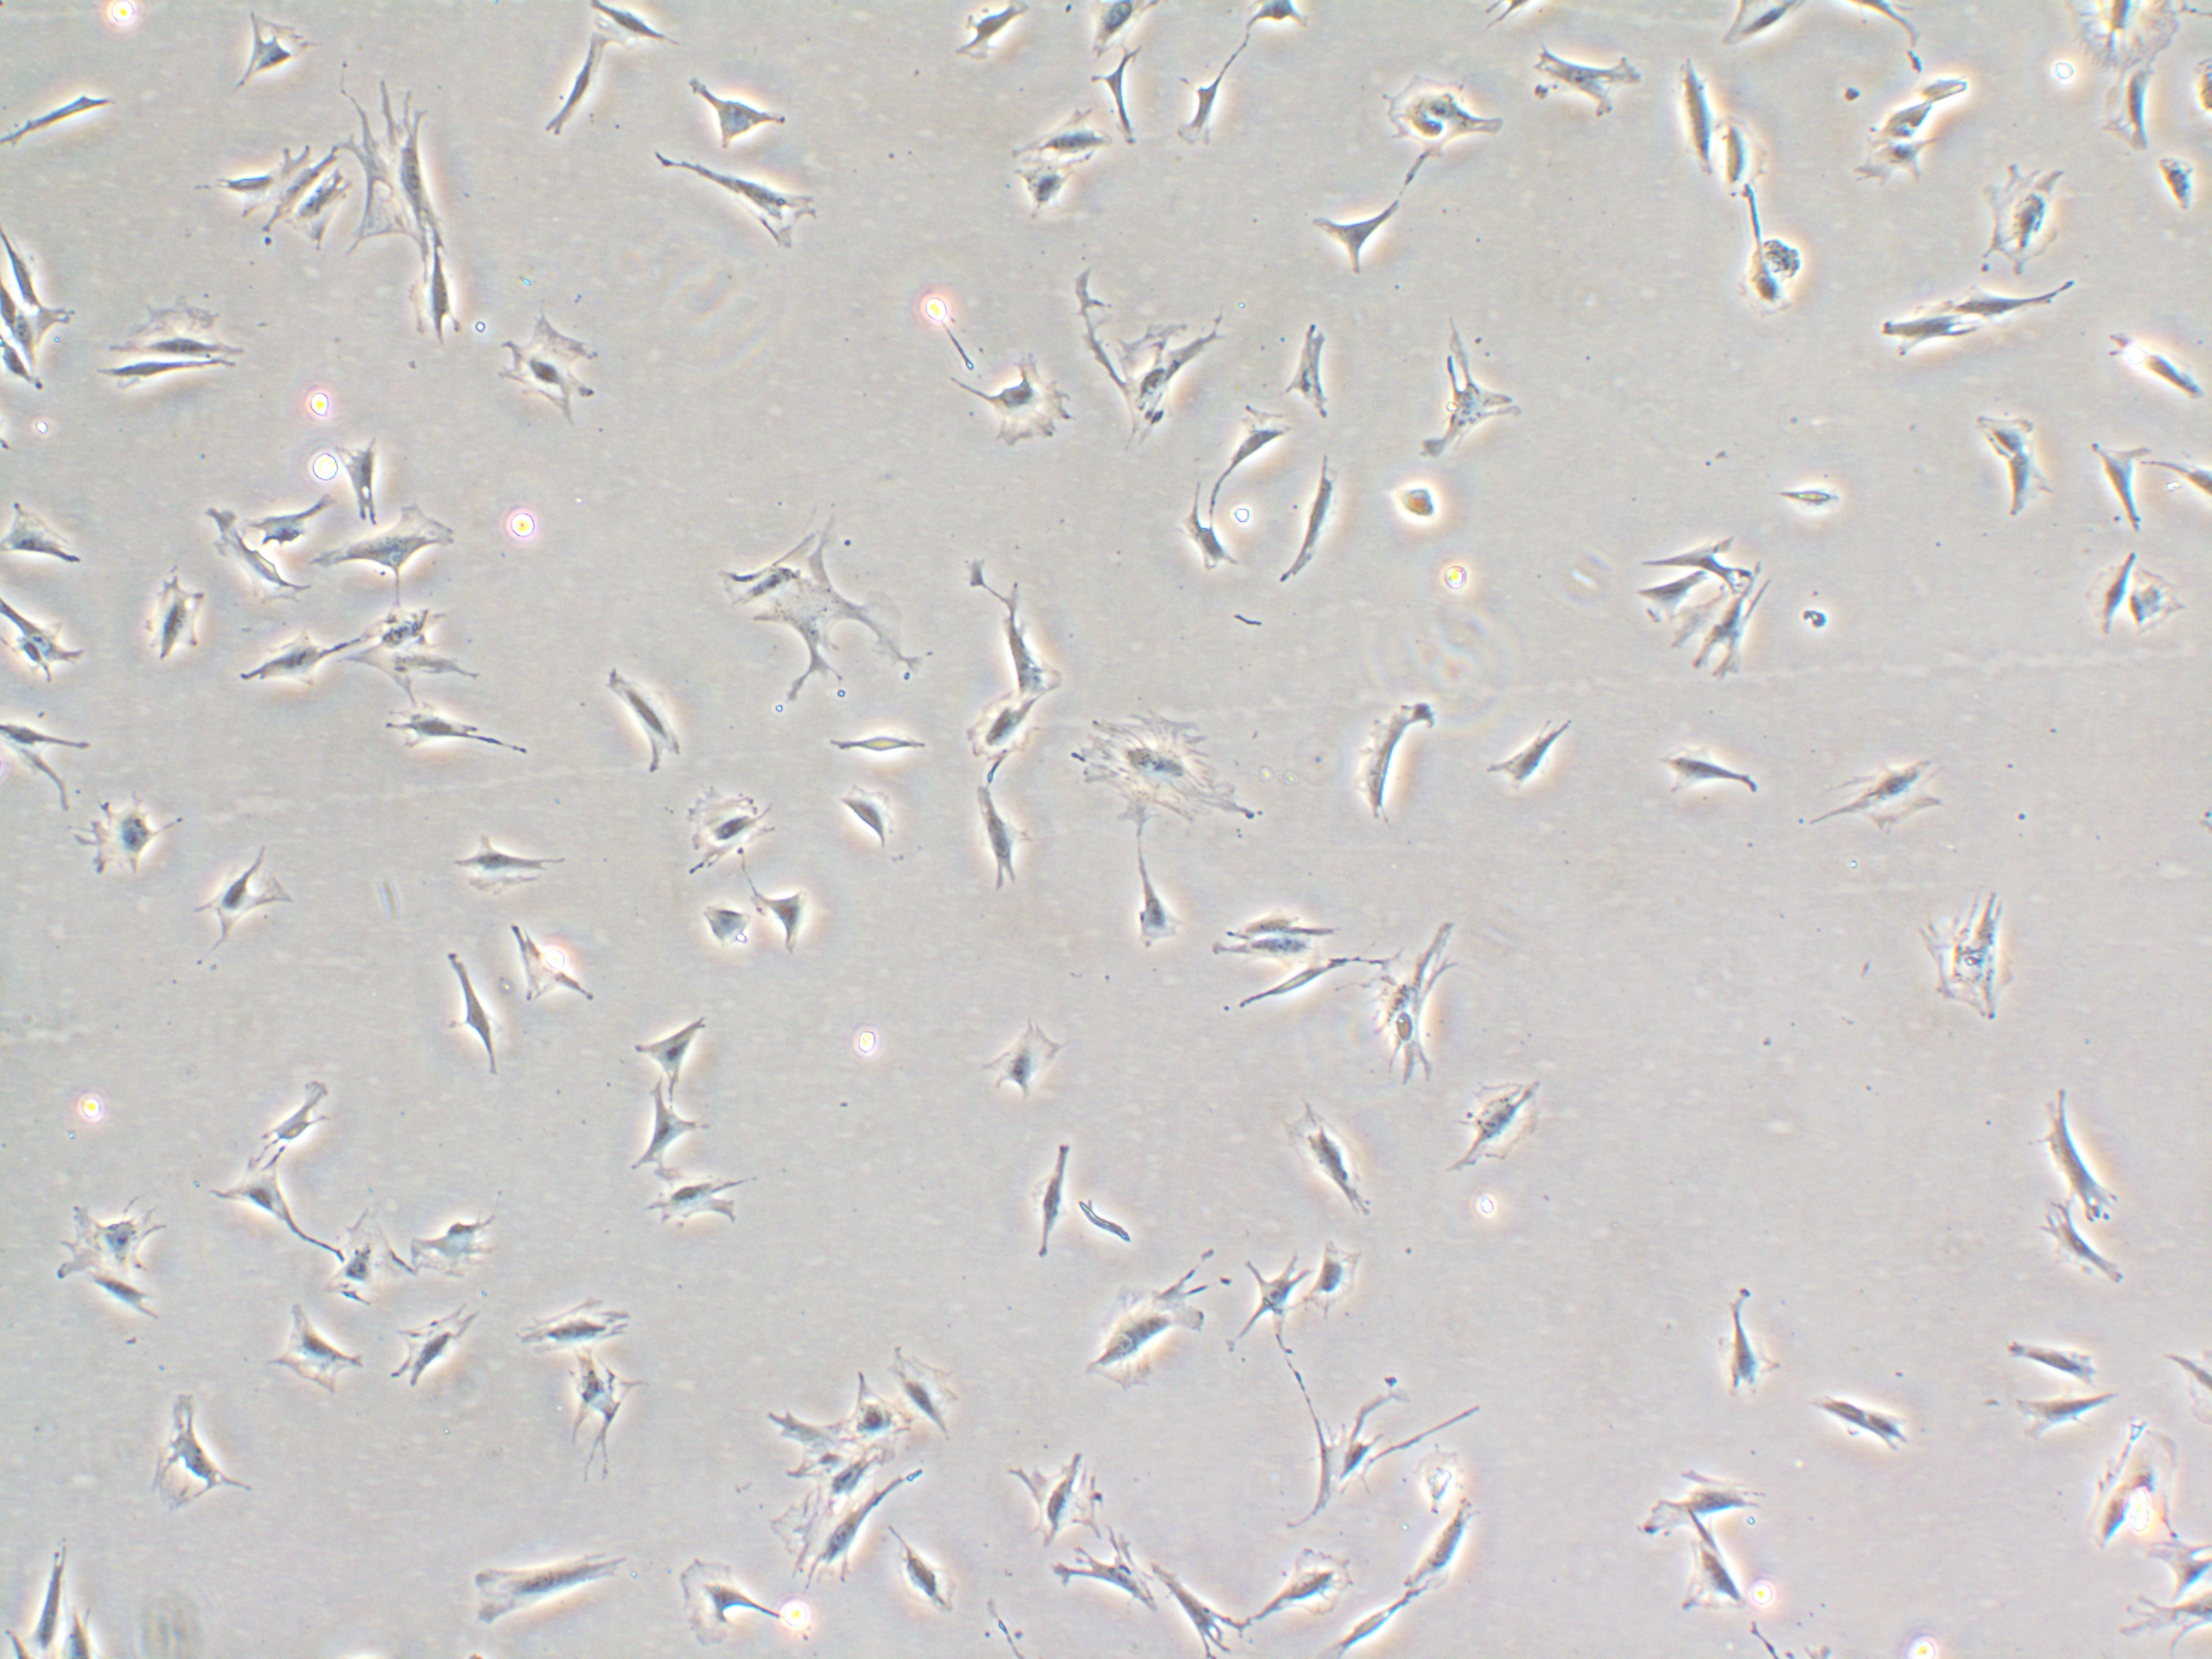small: (1759, 467, 1862, 532), (813, 723, 932, 763), (1378, 467, 1451, 530), (688, 897, 758, 960)
spread: (716, 519, 920, 721), (1059, 263, 1240, 474), (1068, 699, 1275, 852), (124, 1384, 303, 1516), (765, 1462, 939, 1581), (1360, 42, 1508, 178), (1435, 1063, 1592, 1190), (1909, 871, 2026, 1042), (340, 85, 446, 268), (1069, 1262, 1223, 1387), (1792, 756, 1991, 845), (293, 491, 463, 589), (1371, 892, 1447, 1103), (23, 1195, 195, 1284), (651, 770, 791, 878), (98, 281, 260, 373), (211, 141, 348, 247), (1975, 153, 2090, 279), (932, 355, 1073, 455), (315, 1197, 430, 1317), (482, 293, 589, 422), (247, 1307, 373, 1412), (881, 1331, 986, 1445), (493, 1284, 634, 1364), (322, 634, 481, 704), (1001, 1450, 1116, 1546), (813, 1364, 914, 1467), (61, 800, 164, 889), (2064, 0, 2181, 77), (954, 690, 1038, 774)
